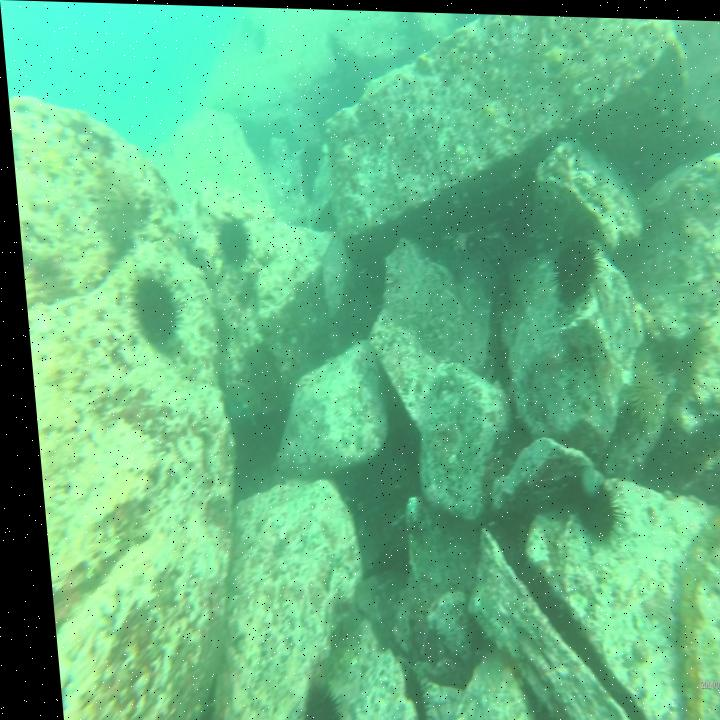echinus: (119, 271, 184, 351), (540, 229, 604, 304), (565, 469, 619, 544), (619, 336, 662, 426), (208, 210, 252, 267)
